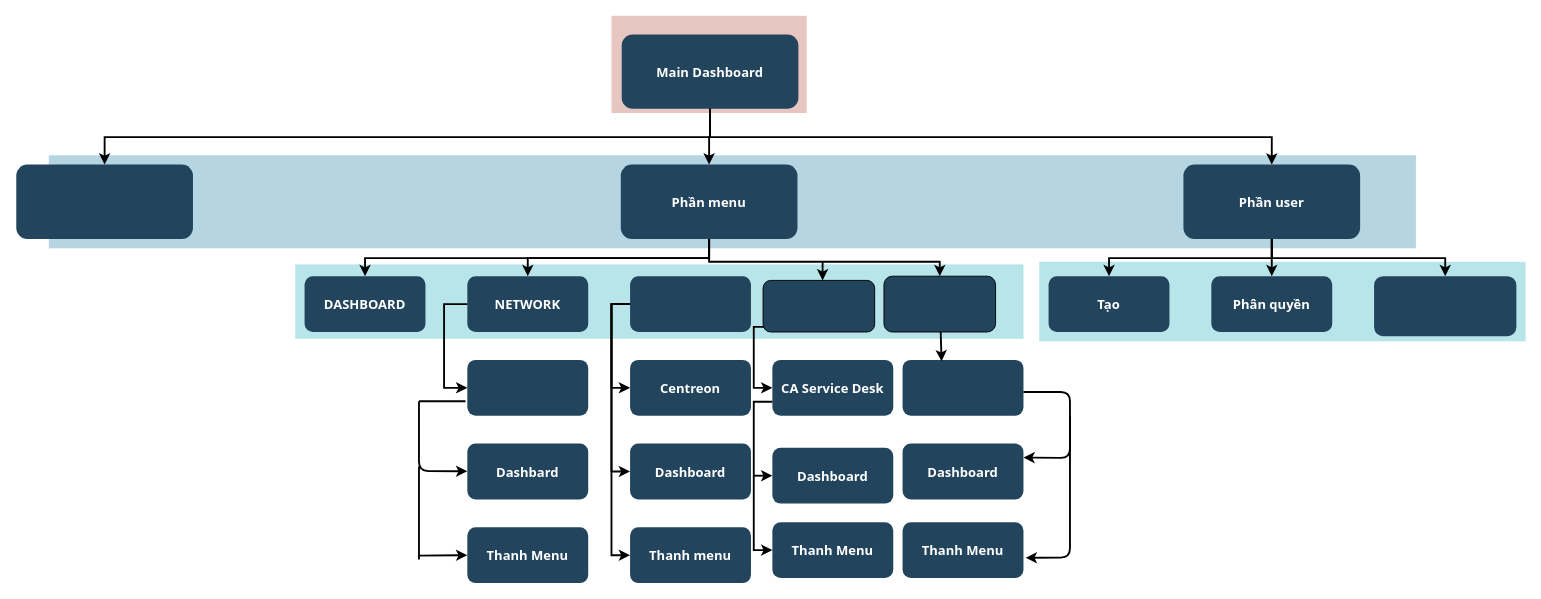
Some shapes in this 1541 by 599 pixel diagram are drawn without their labels. Each missing label, with the centre of its shape:
"APPLICATION" goes at point (690, 304).
"CISCO SDWAN" goes at point (962, 387).
"Phần thông báo" goes at point (104, 201).
"SDWAN" goes at point (939, 303).
"SERVICE DESK" goes at point (818, 305).
"Solarwind" goes at point (527, 387).
"Sửa, xóa, khóa user" goes at point (1445, 306).
